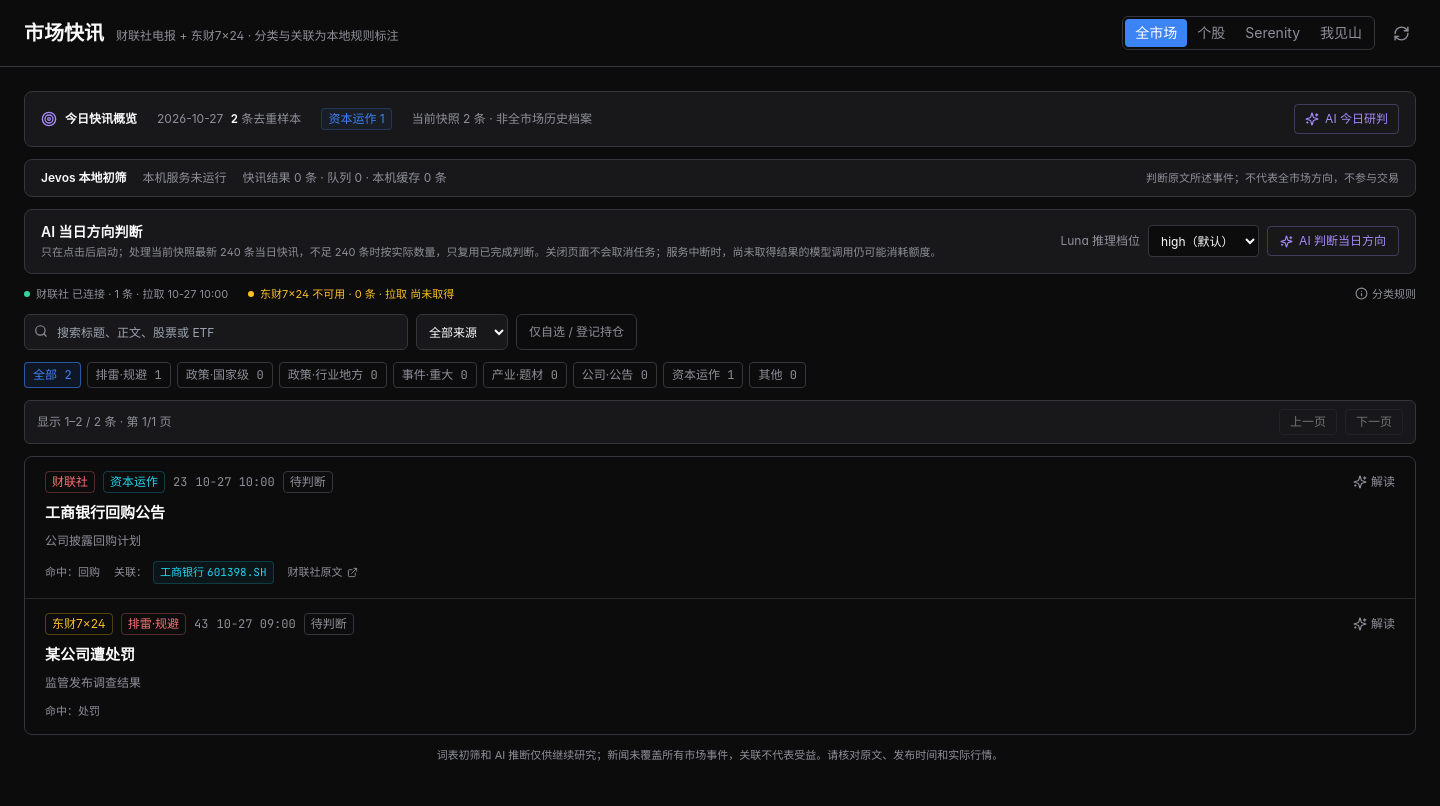
it: keeps a busy response inline instead of opening an unpersisted report
Step 1. Click the button "解读" in the row of "23" → x=1374, y=482, box [1353, 474, 1395, 490]
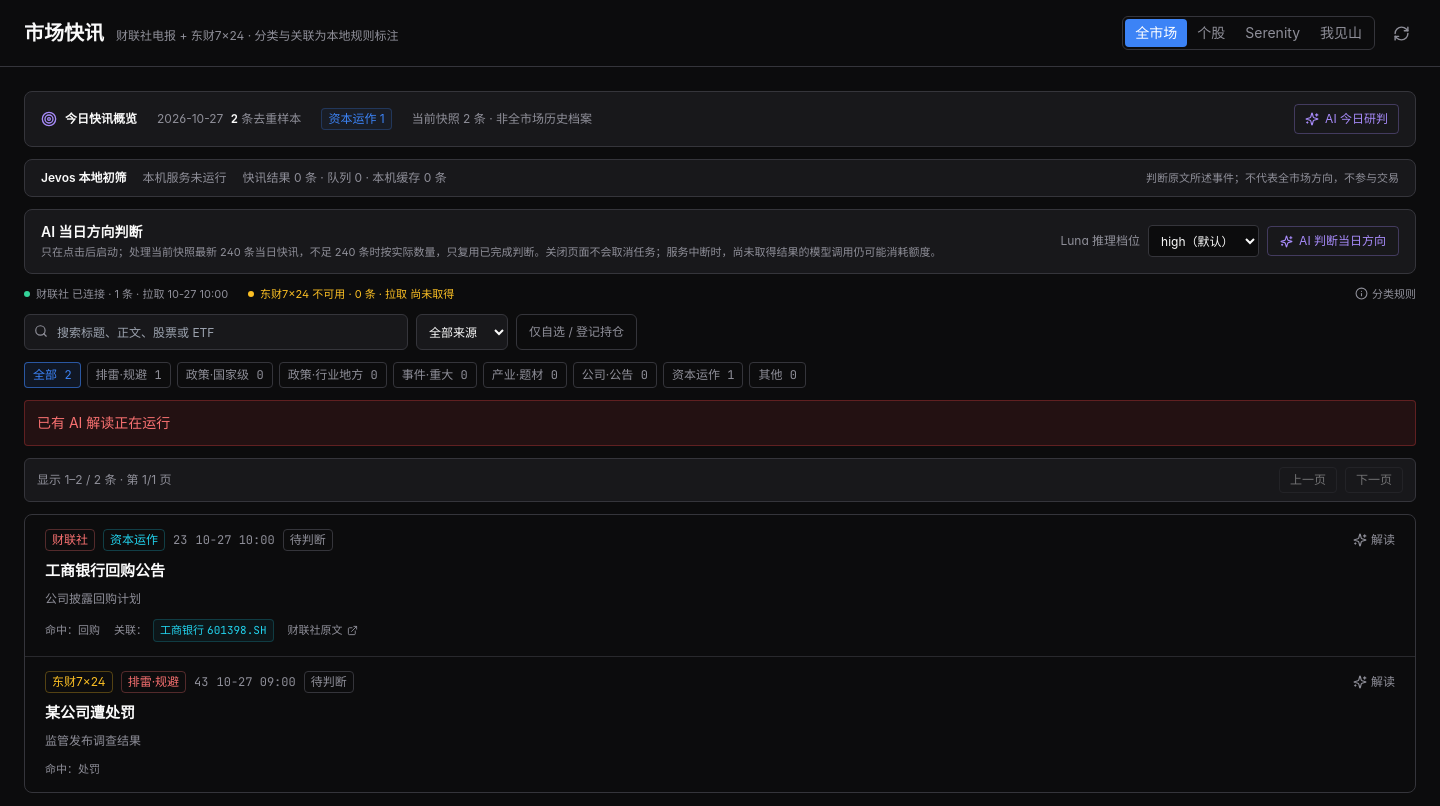
Now the message "已有 AI 解读正在运行" is shown, box [24, 400, 1416, 446]
